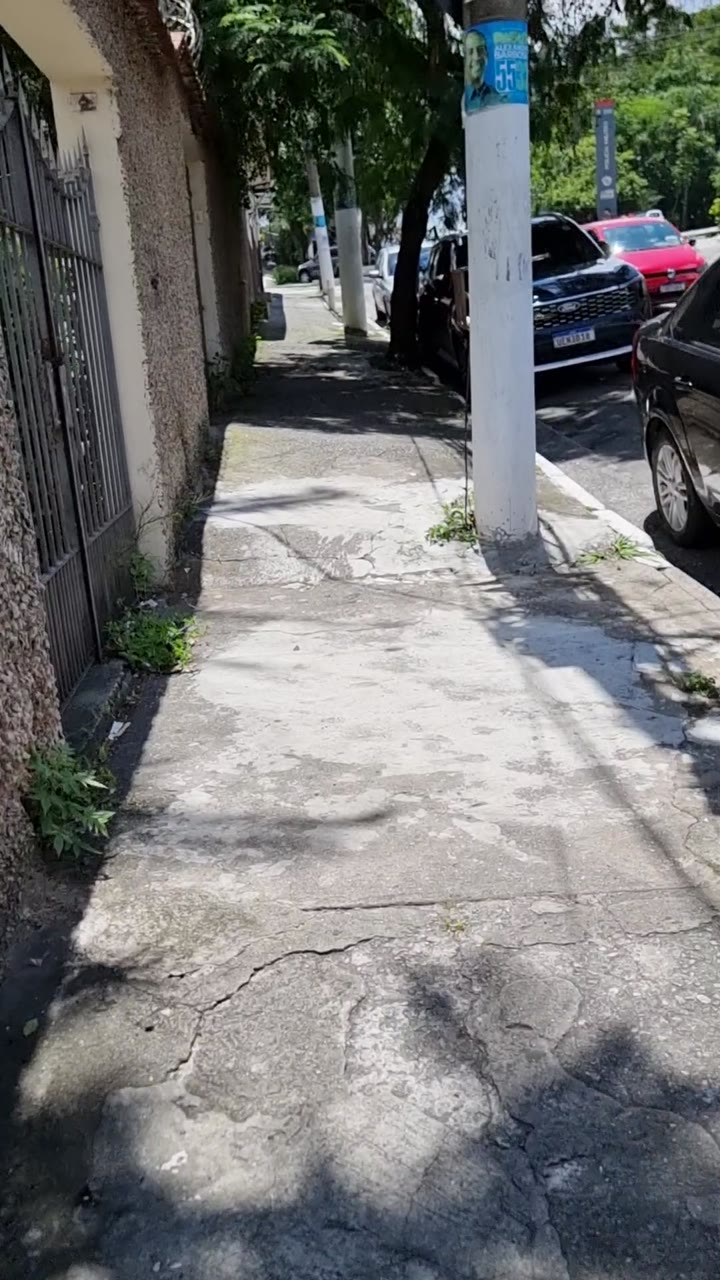obstaculo: (461, 0, 540, 614)
